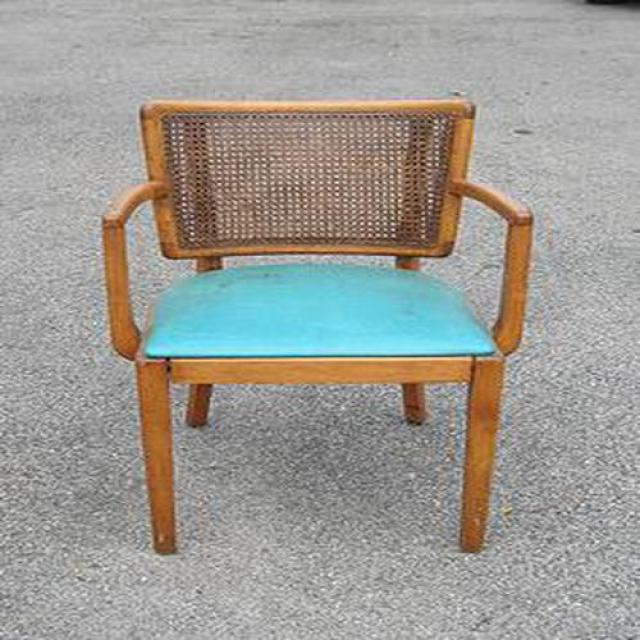chair: (104, 97, 534, 558)
